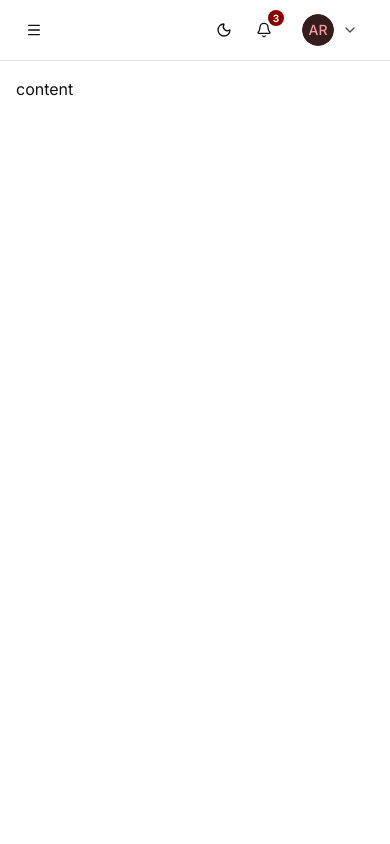
it: app shell accessible names › mobile menu button reports whether the sidebar is open
What coordinates should you click on to do the following:
click the button named "Open menu"
I would click on:
 (34, 30)
Its box is top-left (16, 12), bottom-right (52, 48).
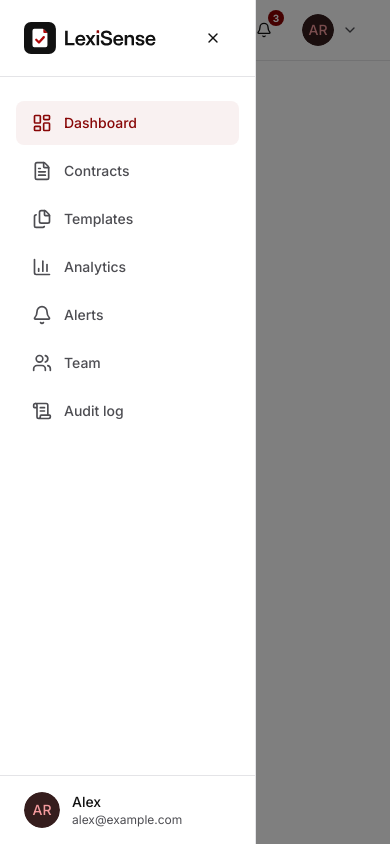
Check: the button named "Open menu" is expanded, box top-left (16, 12), bottom-right (52, 48)
